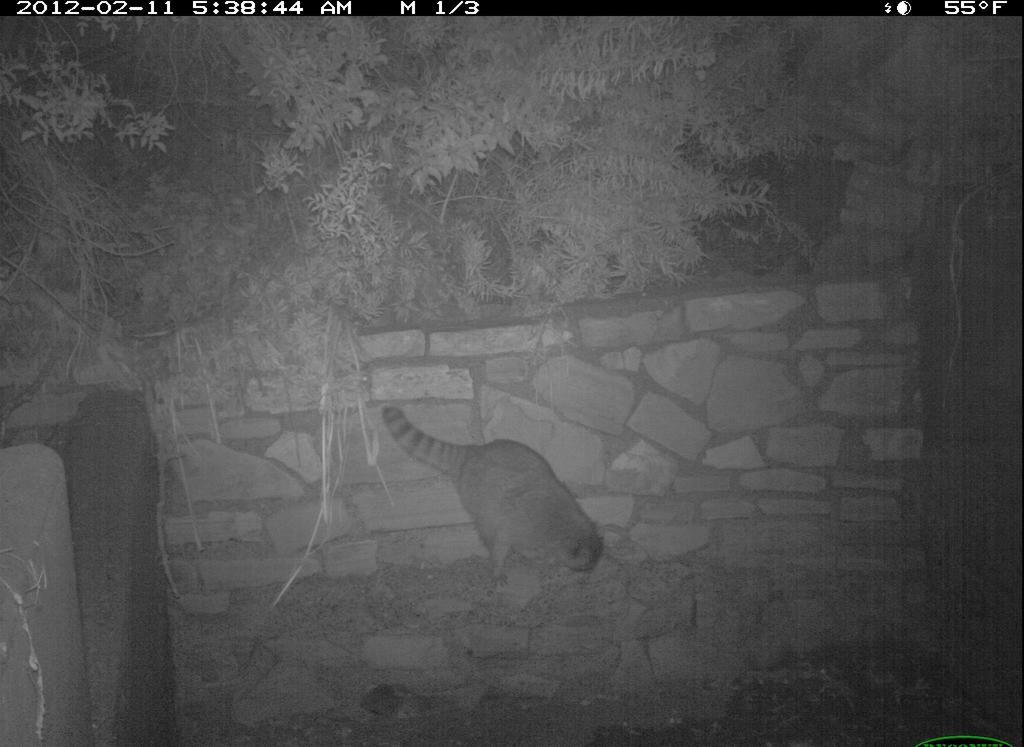raccoon: (377, 397, 607, 594)
